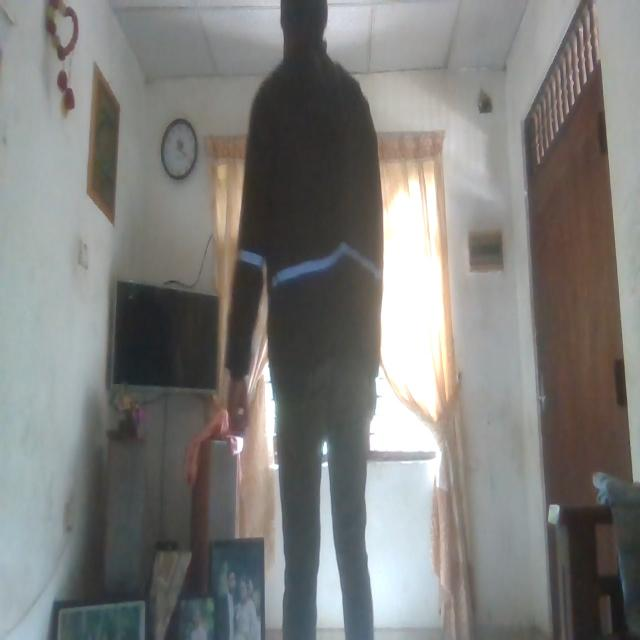Jacket_Wearer: (228, 57, 386, 430)
Person: (222, 4, 396, 640)
